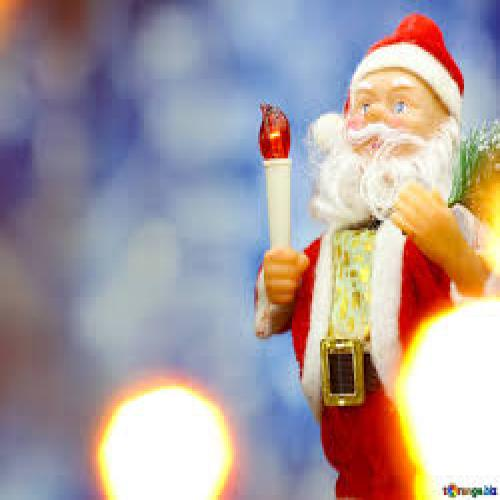Santa: (250, 10, 498, 497)
